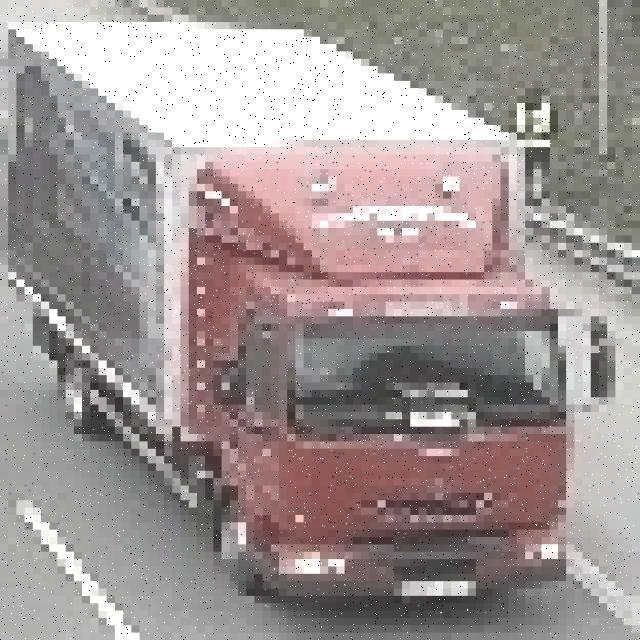truck: (0, 15, 607, 596)
